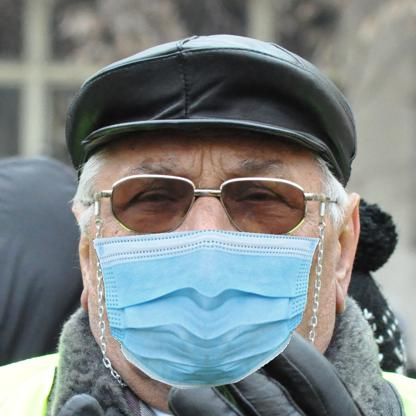mask: (90, 227, 323, 391)
